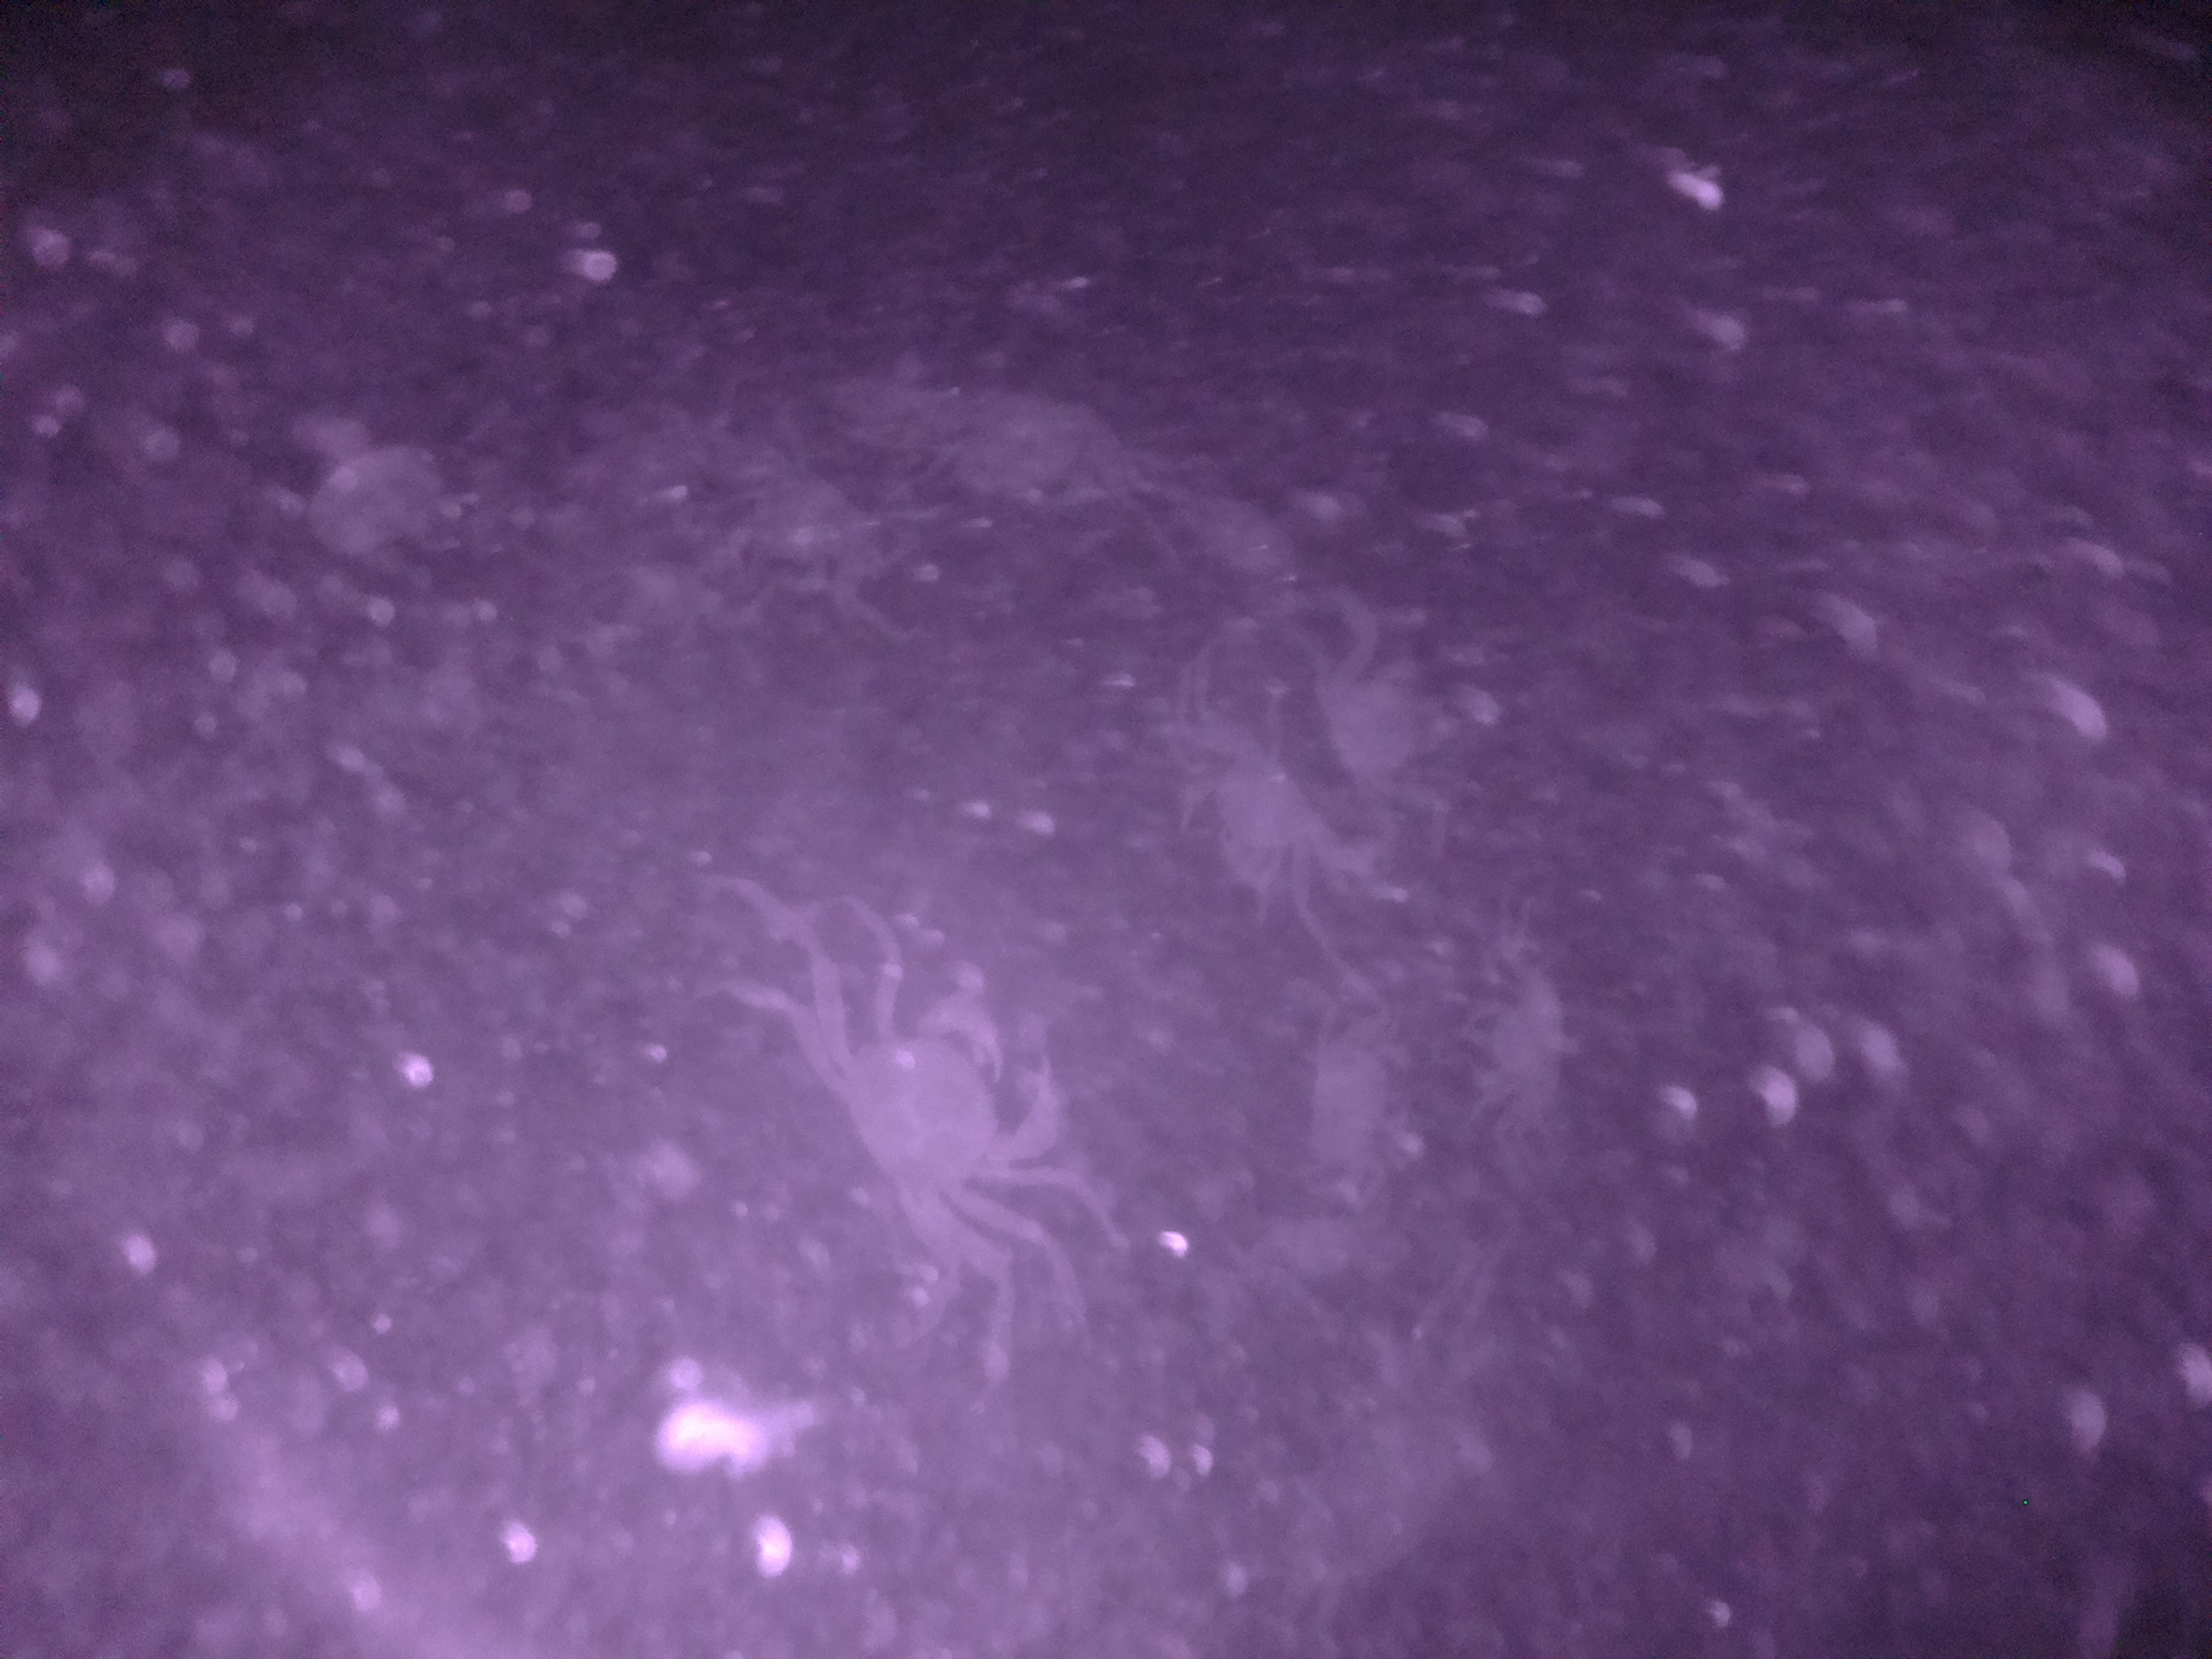Crab: (820, 958, 1068, 1309), (1165, 699, 1317, 906), (1460, 955, 1602, 1148)
